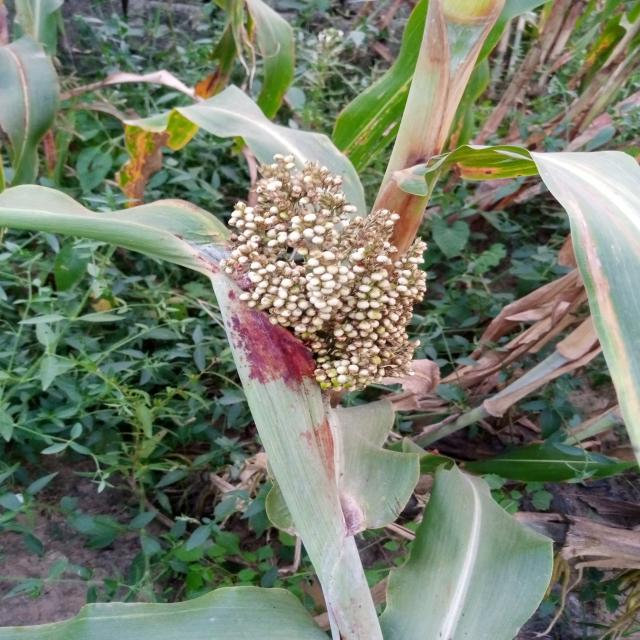UnripeSorghum: (200, 140, 465, 391)
